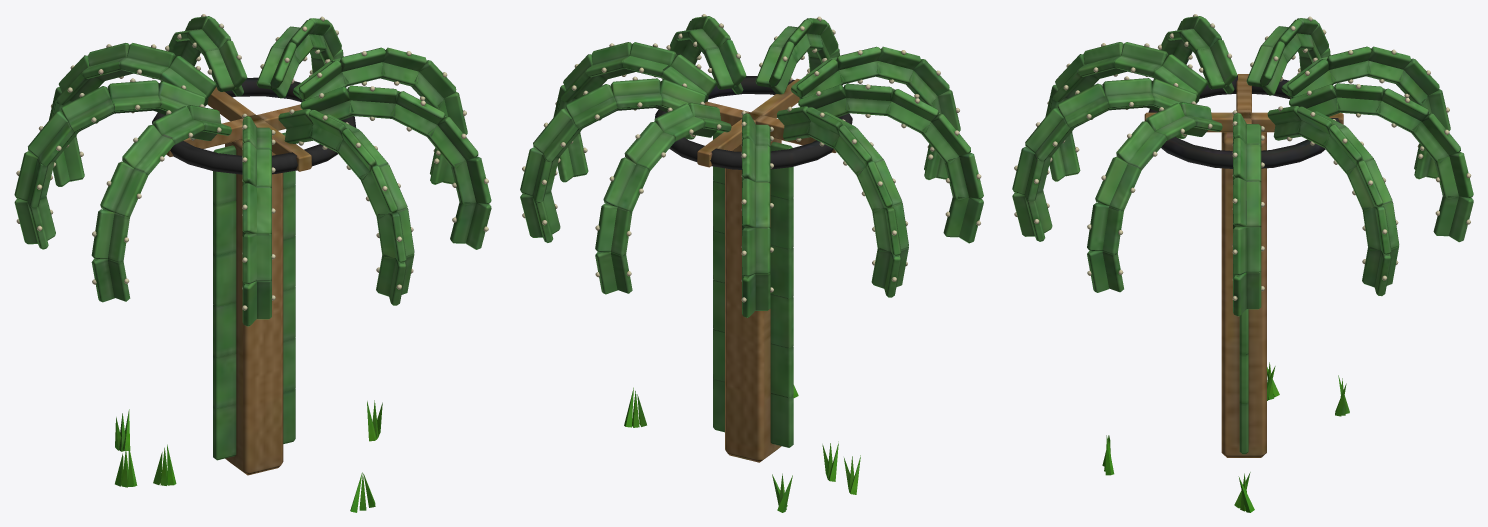
File: dragon_fruit_tree.glb
3 views of the same model, side by side, from view 1: azimuth 30°, elevation 25°; view 2: azimuth 150°, elevation 25°; view 3: azimuth 270°, elevation 25° (orthographic). The views are drawn at different scales.
Visible parts, largest first — view 1: crown, dragon_fruit_tree; view 2: crown, dragon_fruit_tree; view 3: crown, dragon_fruit_tree.
Boxes of the visible parts, x1,y1,x2,y2 form: crown: [14, 14, 491, 475]; dragon_fruit_tree: [115, 400, 382, 512]; crown: [520, 14, 983, 462]; dragon_fruit_tree: [624, 385, 860, 512]; crown: [1012, 14, 1473, 457]; dragon_fruit_tree: [1102, 362, 1349, 512].
Size of the model in its own units: 1.01 by 0.9301 by 1.02.
1 material, 1 textured.
